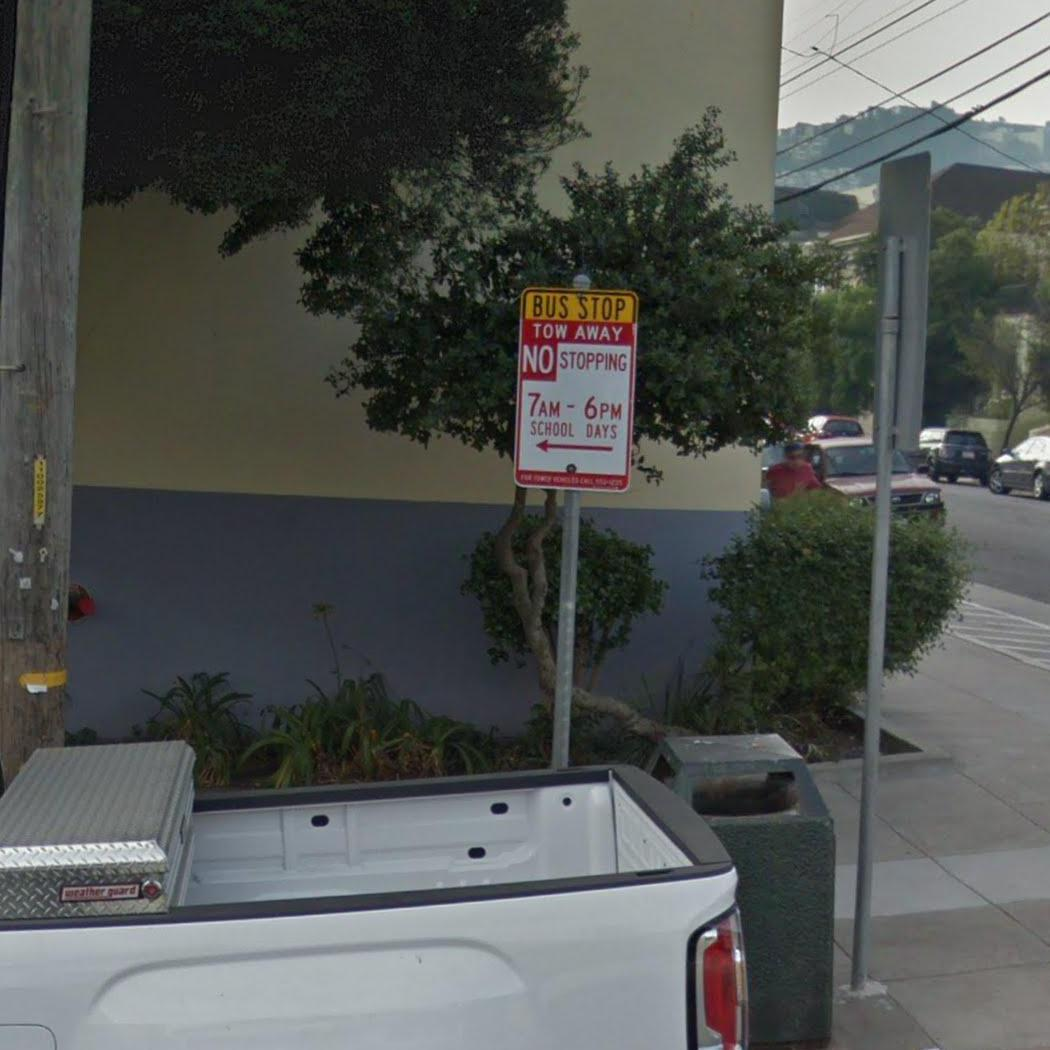No Parking: (511, 285, 642, 493)
